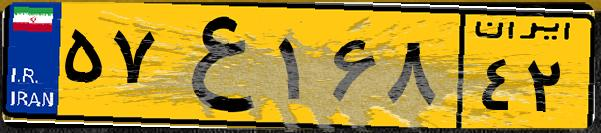1: (270, 28, 330, 110)
2: (525, 38, 570, 115)
4: (475, 38, 525, 113)
5: (57, 26, 110, 100)
6: (330, 28, 385, 110)
7: (110, 28, 158, 98)
8: (385, 28, 445, 110)
ع: (158, 12, 270, 120)
